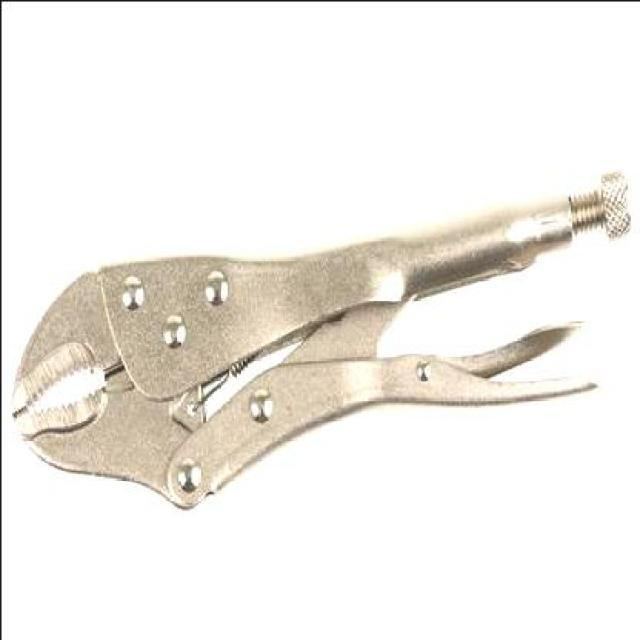pliers: (8, 168, 632, 507)
